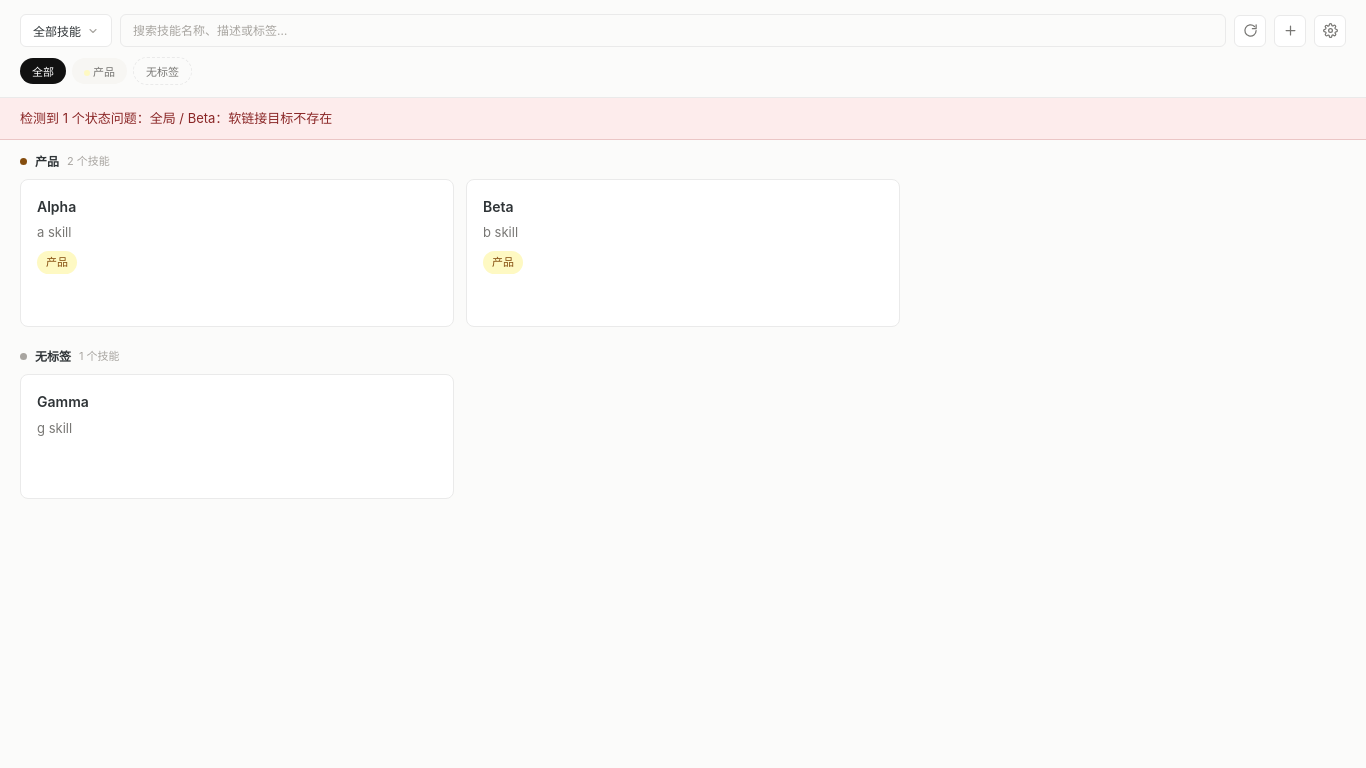
Test: P0-2 详情抽屉收回：按报告提示 › 后端返回 errors 时不显示成功提示
Click the button with class "skill-card" showing "Alpha a skill 产品" at coordinates (57, 206), box 20,179 -> 454,327
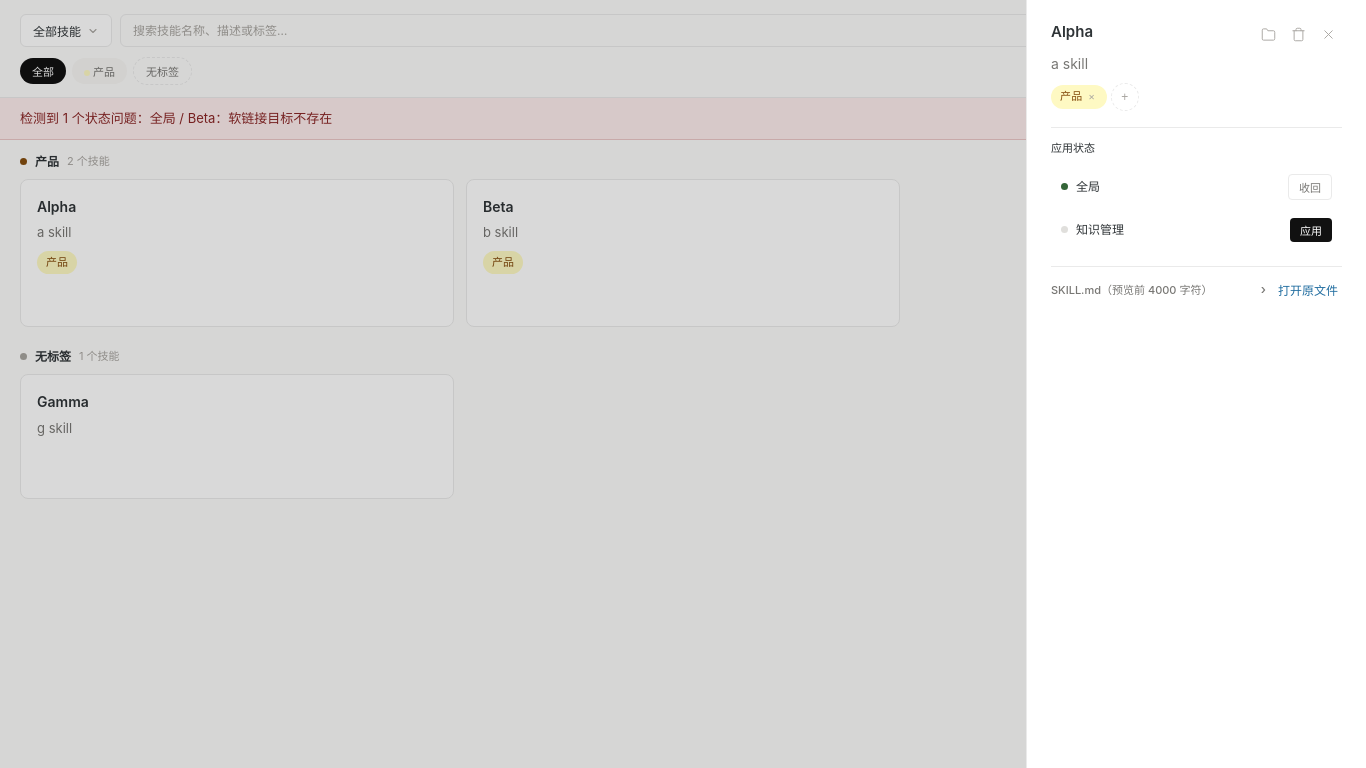
Now the dialog with class "drawer-panel" is shown, box 1026,0 -> 1365,767
Click the button "收回" at coordinates (1310, 187), box 1288,174 -> 1332,200
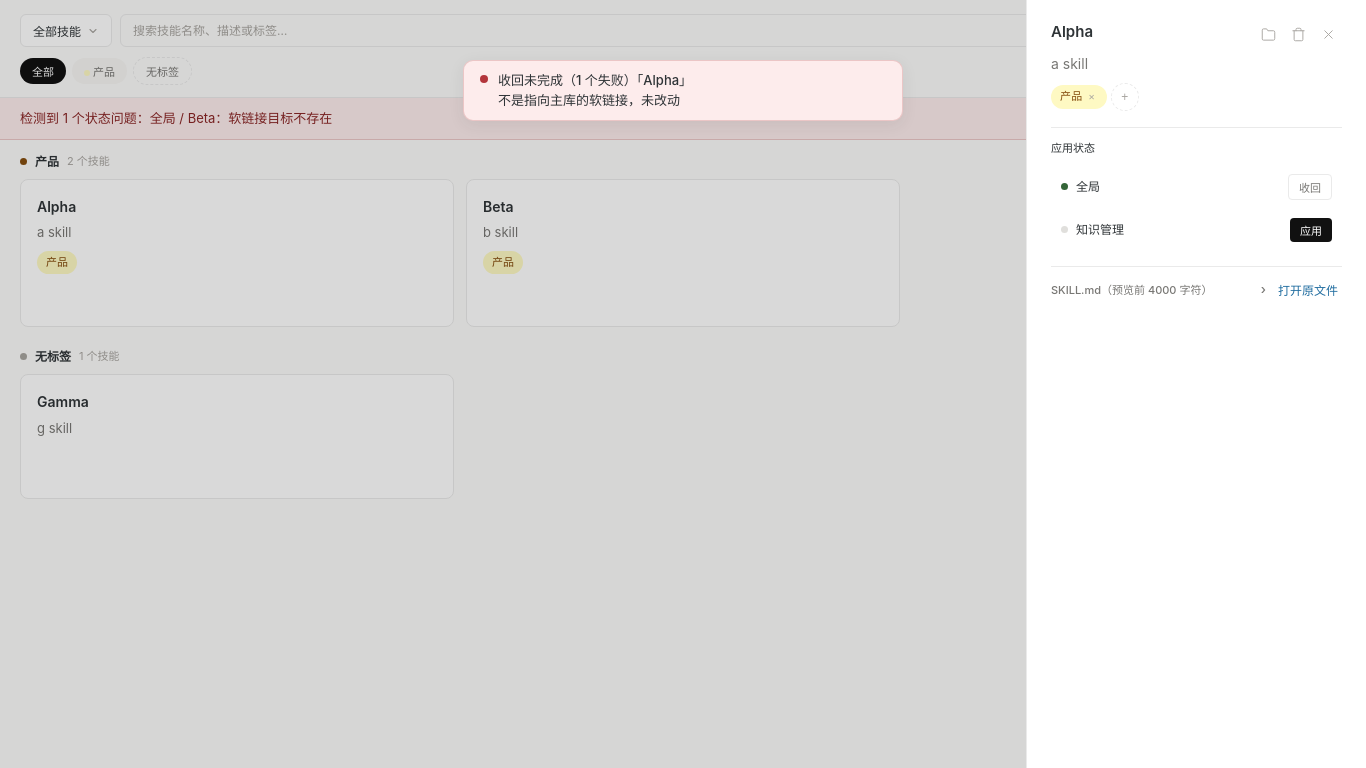
Now the message "收回未完成（1 个失败）「Alpha」 不是指向主库的软链接，未改动" is shown, box 463,60 -> 903,121
Now the message with class "toast" shows "收回未完成", box 498,72 -> 692,108
